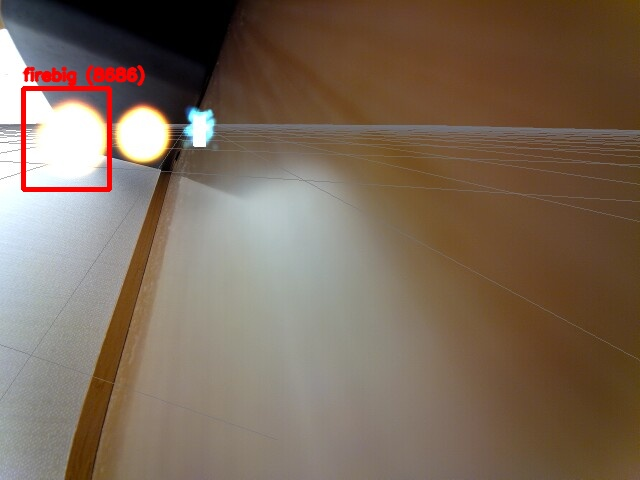firebig: (23, 88, 109, 189)
